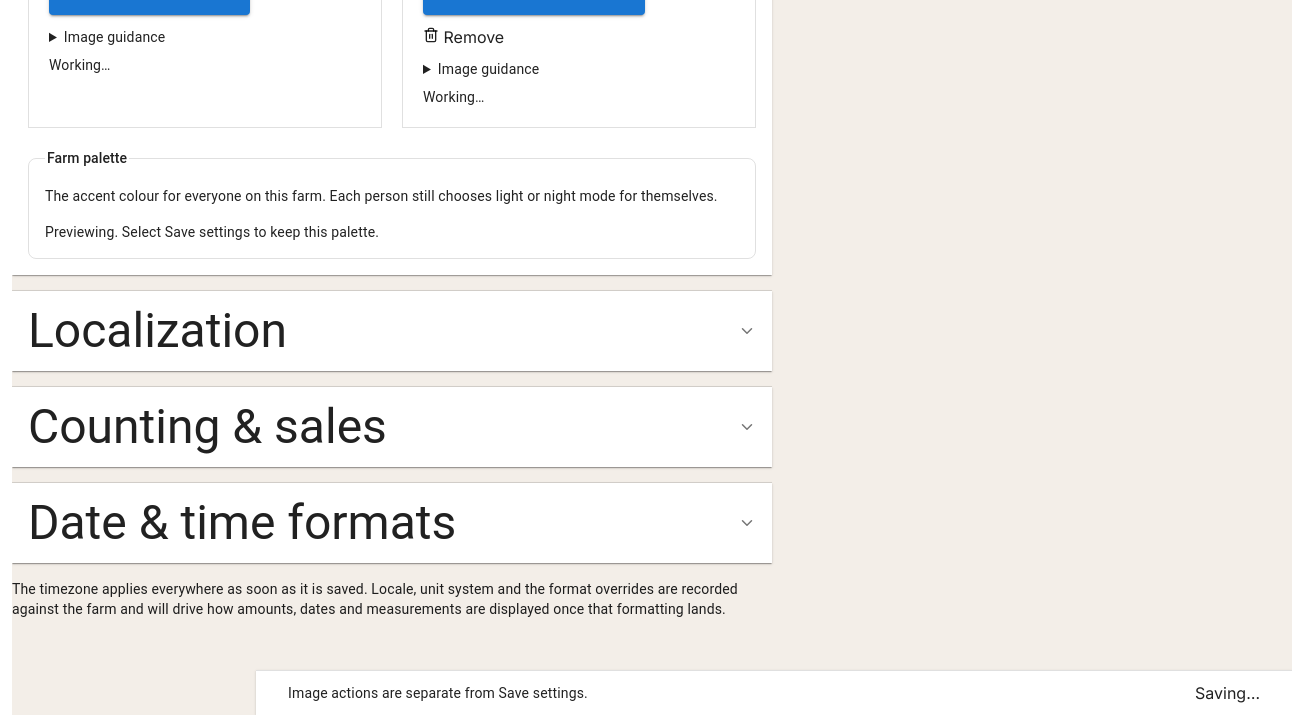
Test case: SettingsPage worker sale allocation policy (#612) › selects the opted-in farm-wide policy when that is what is stored
(page scrolled)
Check: the button "Localization" is shown, box x1=12 y1=291 x2=772 y2=371
Step 1. Click the button "Counting & sales" → (207, 426), box x1=12 y1=387 x2=772 y2=467
(page scrolled)
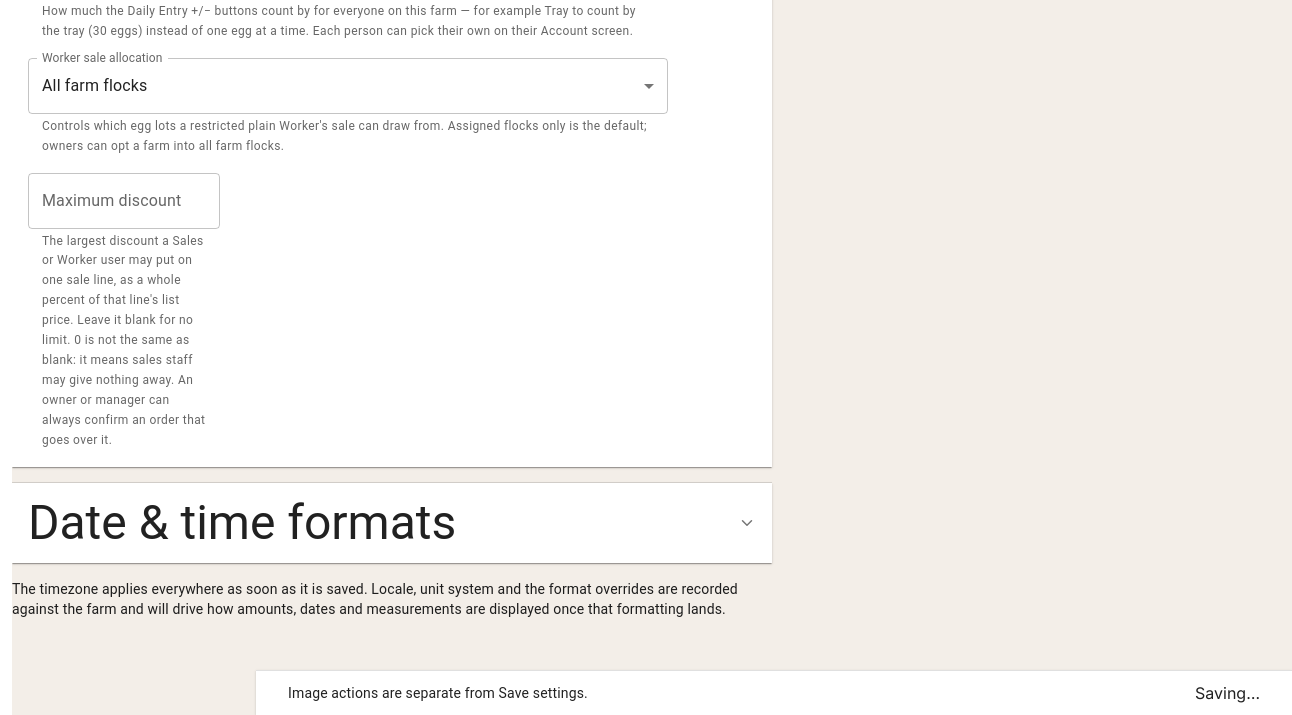
Check: the dropdown labelled "Worker sale allocation" shows "All farm flocks", box x1=28 y1=58 x2=668 y2=114
